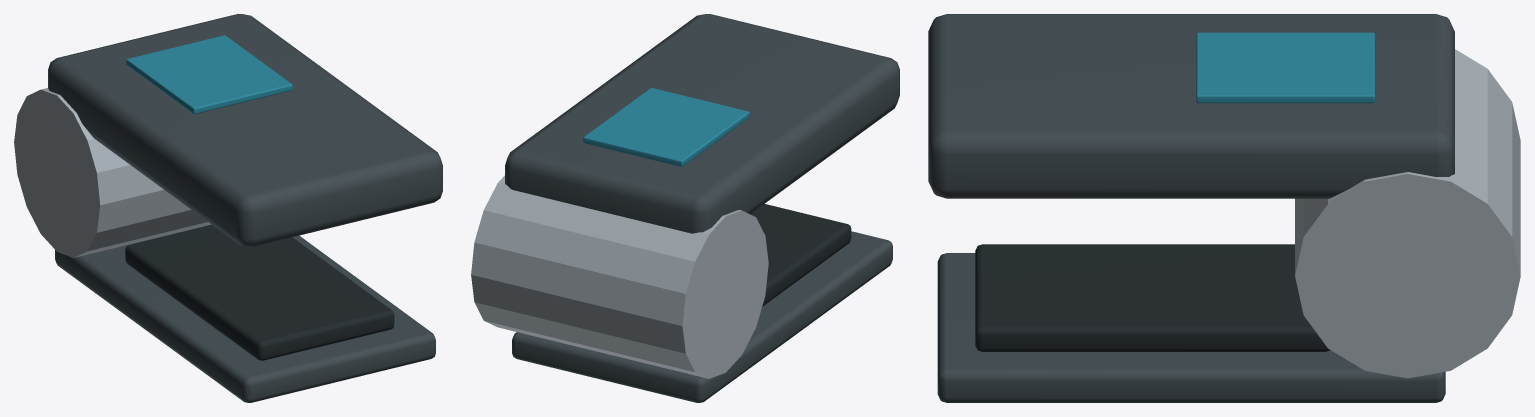
The model's file is spo2_probe.fbx.
3 renders of one model, left to right at view 1: azimuth 30°, elevation 25°; view 2: azimuth 150°, elevation 25°; view 3: azimuth 270°, elevation 25°, orthographic. The views are drawn at different scales.
Parts seen in each view (by area): view 1: EQ_spo2_probe_Body, EQ_spo2_probe_LowerPad, EQ_spo2_probe_LowerJaw, EQ_spo2_probe_Hinge, EQ_spo2_probe_GripMark; view 2: EQ_spo2_probe_Body, EQ_spo2_probe_Hinge, EQ_spo2_probe_LowerJaw, EQ_spo2_probe_GripMark, EQ_spo2_probe_LowerPad; view 3: EQ_spo2_probe_Body, EQ_spo2_probe_Hinge, EQ_spo2_probe_LowerPad, EQ_spo2_probe_LowerJaw, EQ_spo2_probe_GripMark.
Part boxes in pixels (x1,y1,x2,y2): EQ_spo2_probe_Body: (48,14,442,246); EQ_spo2_probe_LowerPad: (125,225,394,360); EQ_spo2_probe_LowerJaw: (55,224,435,402); EQ_spo2_probe_Hinge: (14,88,211,257); EQ_spo2_probe_GripMark: (126,35,292,114); EQ_spo2_probe_Body: (505,14,899,233); EQ_spo2_probe_Hinge: (471,175,768,378); EQ_spo2_probe_LowerJaw: (512,231,892,402); EQ_spo2_probe_GripMark: (583,88,749,166); EQ_spo2_probe_LowerPad: (750,204,851,306); EQ_spo2_probe_Body: (928,14,1454,198); EQ_spo2_probe_Hinge: (1295,49,1520,378); EQ_spo2_probe_LowerPad: (975,244,1329,351); EQ_spo2_probe_LowerJaw: (937,253,1445,402); EQ_spo2_probe_GripMark: (1196,32,1374,103).
Size of the model in its own units: 0.034 by 0.033 by 0.063.
